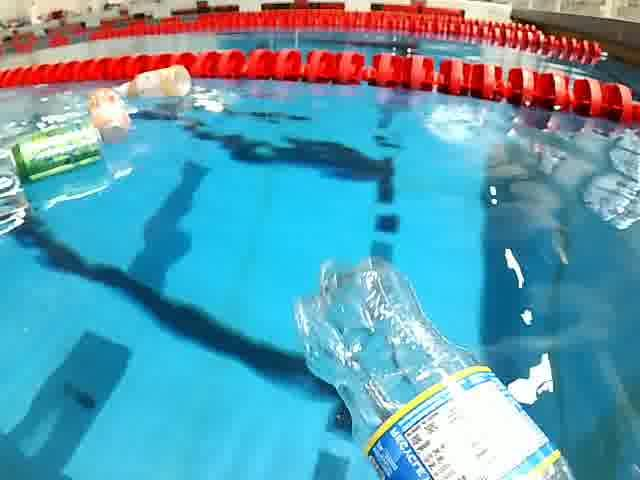Bottle: (286, 251, 583, 480), (113, 62, 197, 102), (86, 85, 134, 151)
Can: (8, 123, 114, 185)
